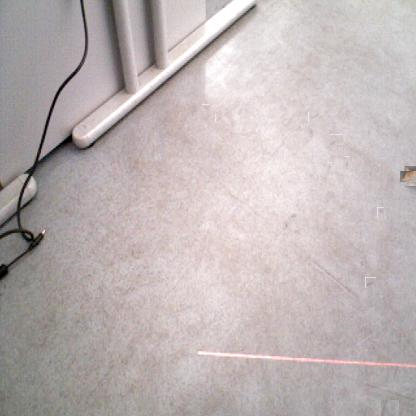dirty: (402, 167, 416, 184)
mark: (373, 374, 407, 408), (283, 214, 297, 232), (330, 133, 343, 146), (365, 277, 376, 288), (308, 112, 319, 122), (377, 207, 384, 218), (326, 162, 332, 173), (344, 156, 350, 167), (203, 104, 210, 112), (215, 115, 222, 122), (360, 259, 364, 267)
